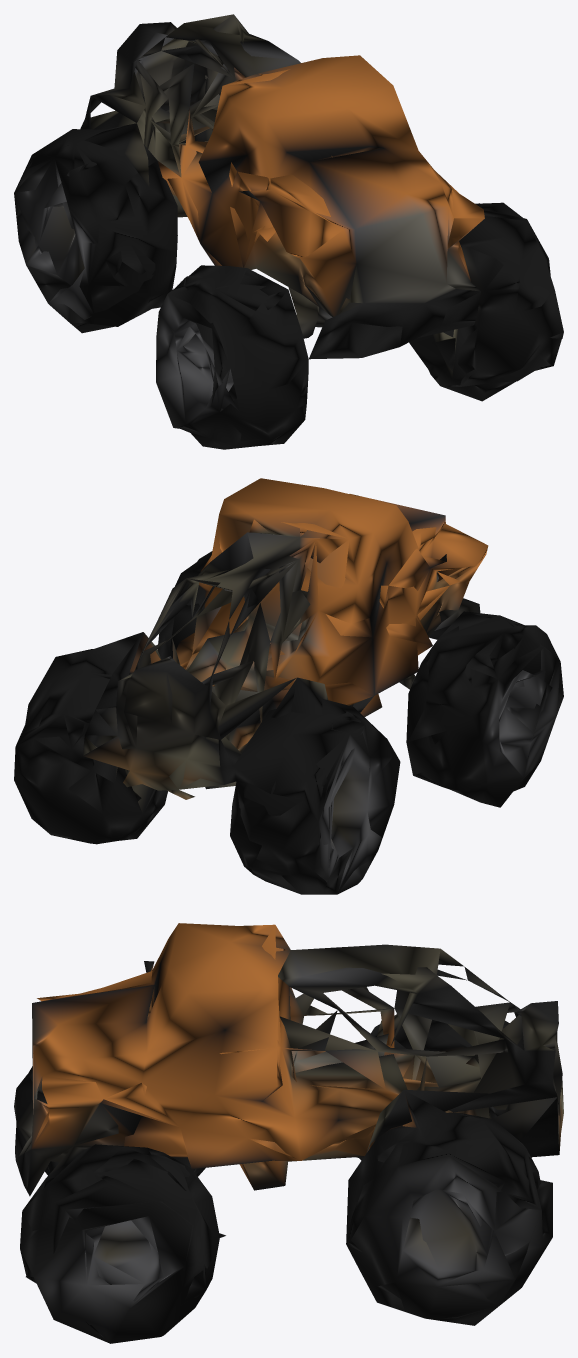
Rendered from gen3d-monster-truck-lod0.glb.
The picture shows the model from 3 angles, top to bottom: view 1: azimuth 30°, elevation 25°; view 2: azimuth 150°, elevation 25°; view 3: azimuth 270°, elevation 25°; orthographic projection. The views are drawn at different scales.
Visible parts, largest first — view 1: part_0; view 2: part_0; view 3: part_0.
Boxes of the visible parts, x1,y1,x2,y2 form: part_0: [14, 14, 563, 449]; part_0: [14, 478, 563, 894]; part_0: [14, 923, 563, 1343].
Size of the model in its own units: 1.19 by 0.9899 by 1.59.
